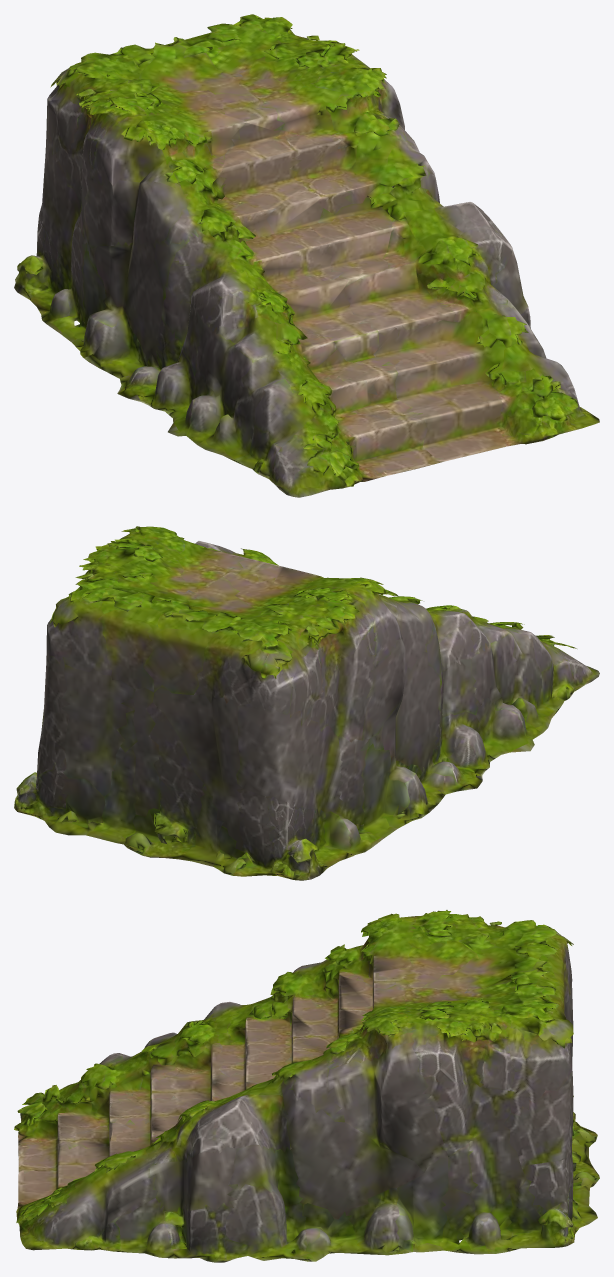
File: slope_ascent.glb
3 renders of one model, top to bottom at view 1: azimuth 30°, elevation 25°; view 2: azimuth 150°, elevation 25°; view 3: azimuth 270°, elevation 25°, orthographic. The views are drawn at different scales.
Bounding box in the file's own units: 1.29 × 0.7702 × 1.9.
Materials: 1 (1 with a texture image).
